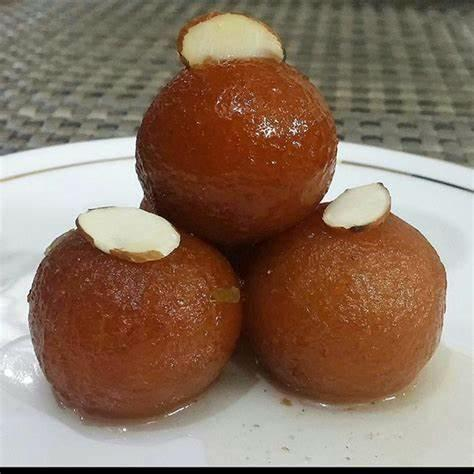GulabJamun: (135, 14, 338, 249), (24, 204, 239, 421), (245, 182, 445, 408)
